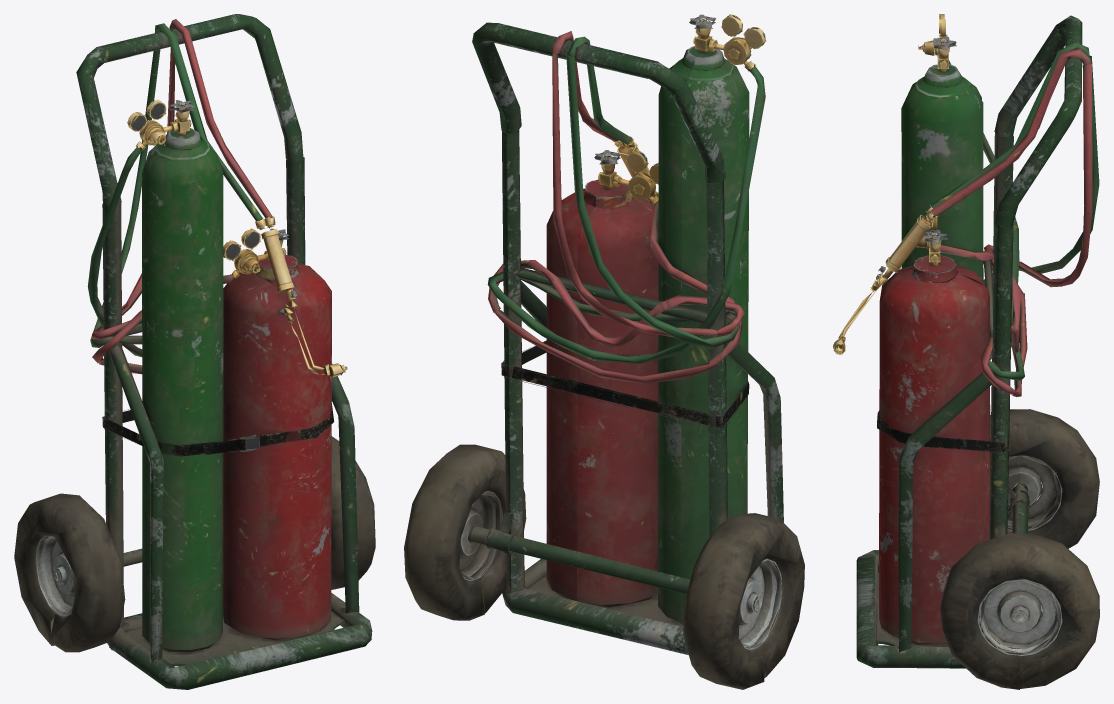
File: ph_portable_welding_cart.glb
3 renders of one model, left to right at view 1: azimuth 30°, elevation 25°; view 2: azimuth 150°, elevation 25°; view 3: azimuth 270°, elevation 25°, orthographic. The views are drawn at different scales.
Parts seen in each view (by area): view 1: portable_welding_cart; view 2: portable_welding_cart; view 3: portable_welding_cart.
Boxes of the visible parts, <box> form: portable_welding_cart: <box>14,14,375,689</box>; portable_welding_cart: <box>404,14,804,689</box>; portable_welding_cart: <box>833,14,1099,689</box>.
Bounding box in the file's own units: 0.8367 × 1.56 × 0.6552.
Materials: 2 (2 with a texture image).
